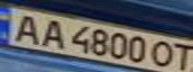0: (106, 29, 130, 61), (127, 34, 151, 64)
4: (63, 22, 93, 54)
8: (87, 27, 112, 57)
A: (6, 11, 48, 44), (36, 17, 69, 50)
O: (148, 38, 178, 70)
T: (169, 41, 193, 71)
